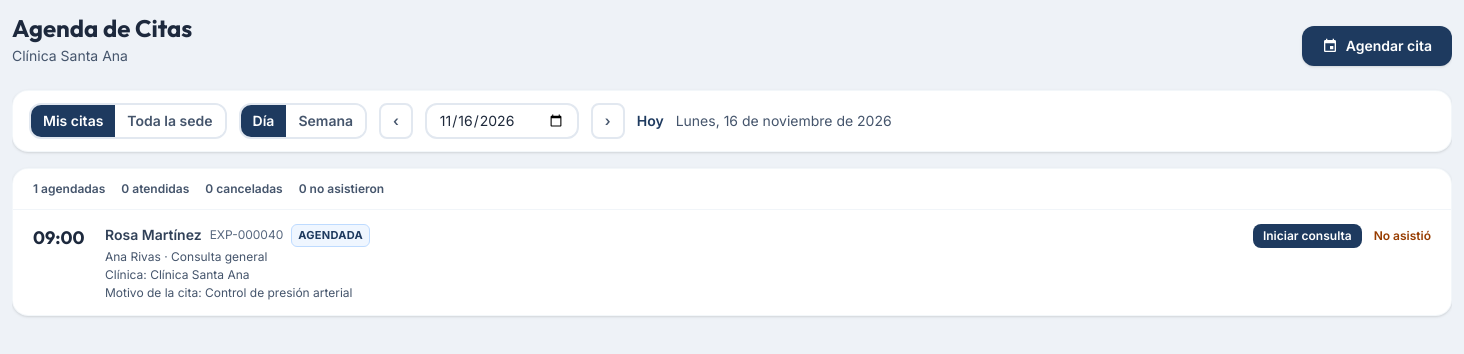
agenda · No asistió (HU-31 c4) › si el backend la rechaza, muestra su mensaje
Step 1. Click the button "No asistió" → (1402, 236), box [1374,228,1431,244]
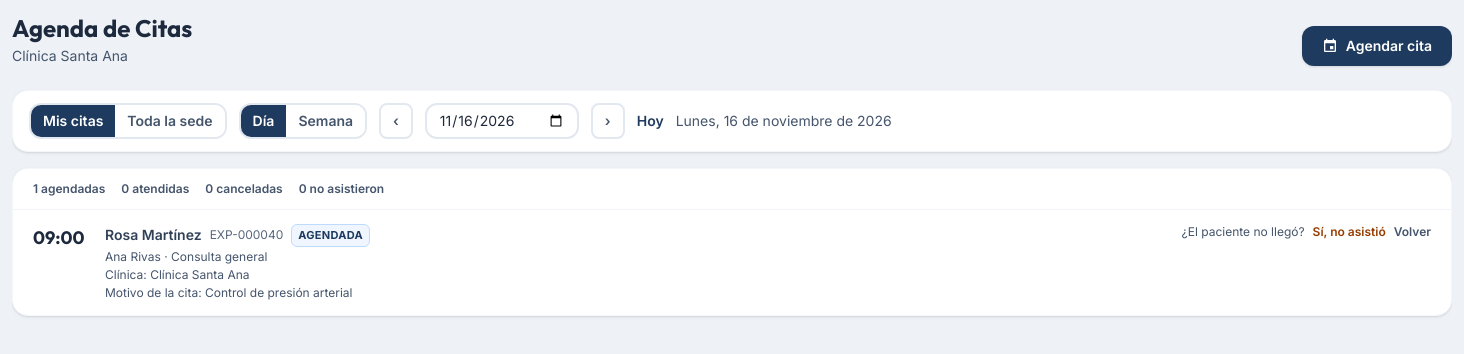
Step 2. Click the button "Sí, no asistió" → (1349, 232), box [1313,224,1386,240]
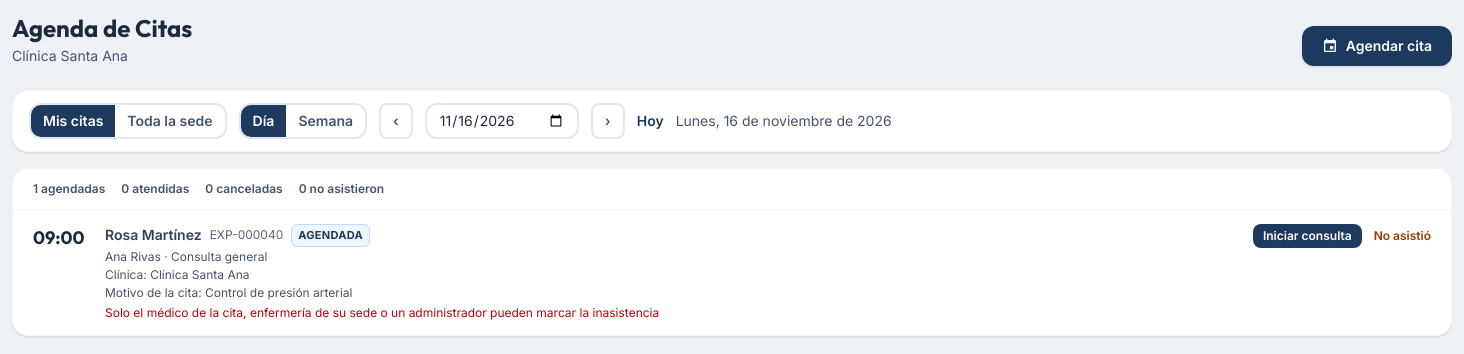
Check: the message shows "Solo el médico de la cita, enfermería de su sede o un administrador pueden marcar la inasistencia", box [105,304,659,320]
